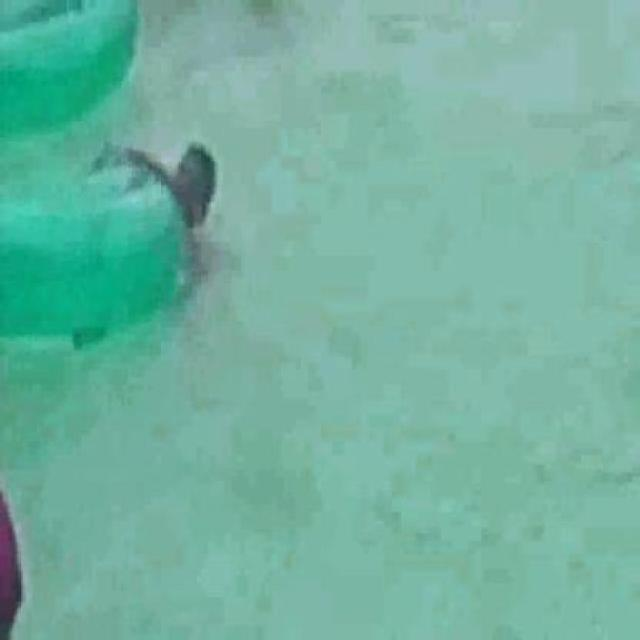drowning: (104, 99, 244, 346)
